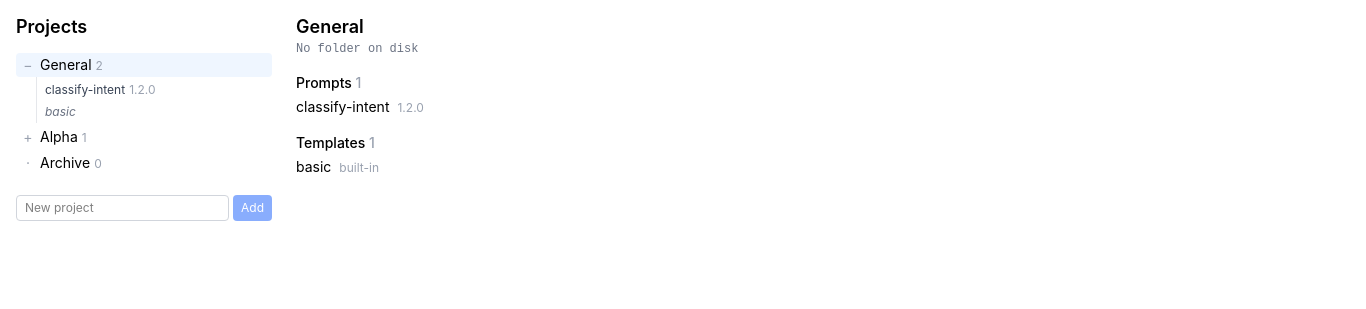
Test: Projects › asks what to do with the items a deletion would orphan
The width and height of the screenshot is (1366, 309).
Check: the heading "General" is shown, box [296, 16, 364, 37]
Click the button "Alpha1".
click(154, 137)  # box [40, 125, 268, 149]
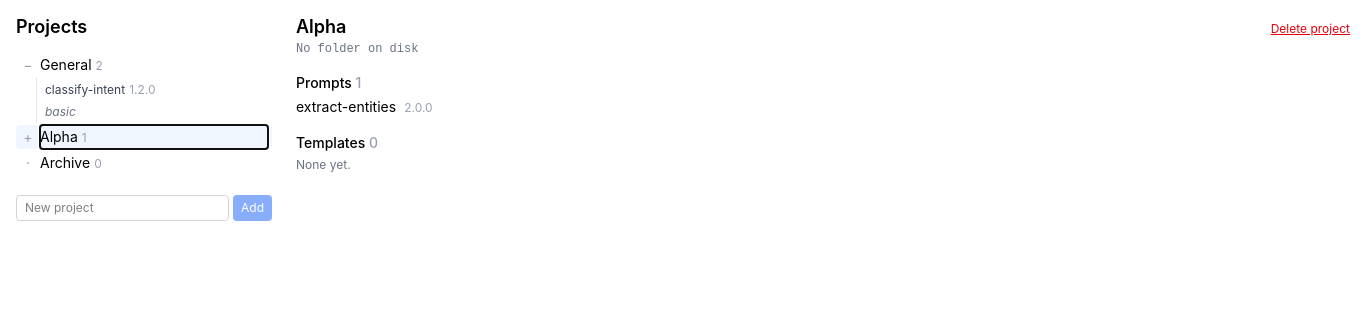
Click the button "Delete project".
click(1310, 29)  # box [1271, 21, 1350, 37]
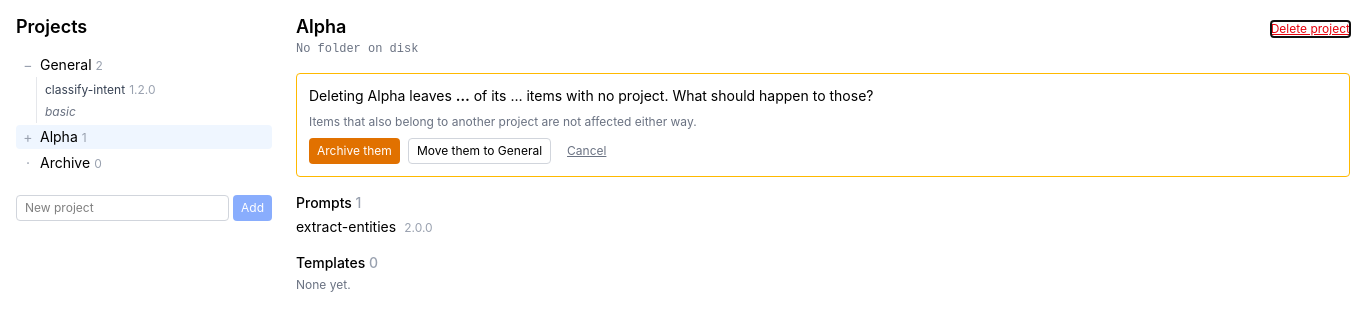
Check: the text "leaves" is shown, box [405, 87, 452, 104]
Check: the button "Archive them" is shown, box [309, 138, 400, 164]
Check: the button "Move them to General" is shown, box [408, 138, 551, 164]
